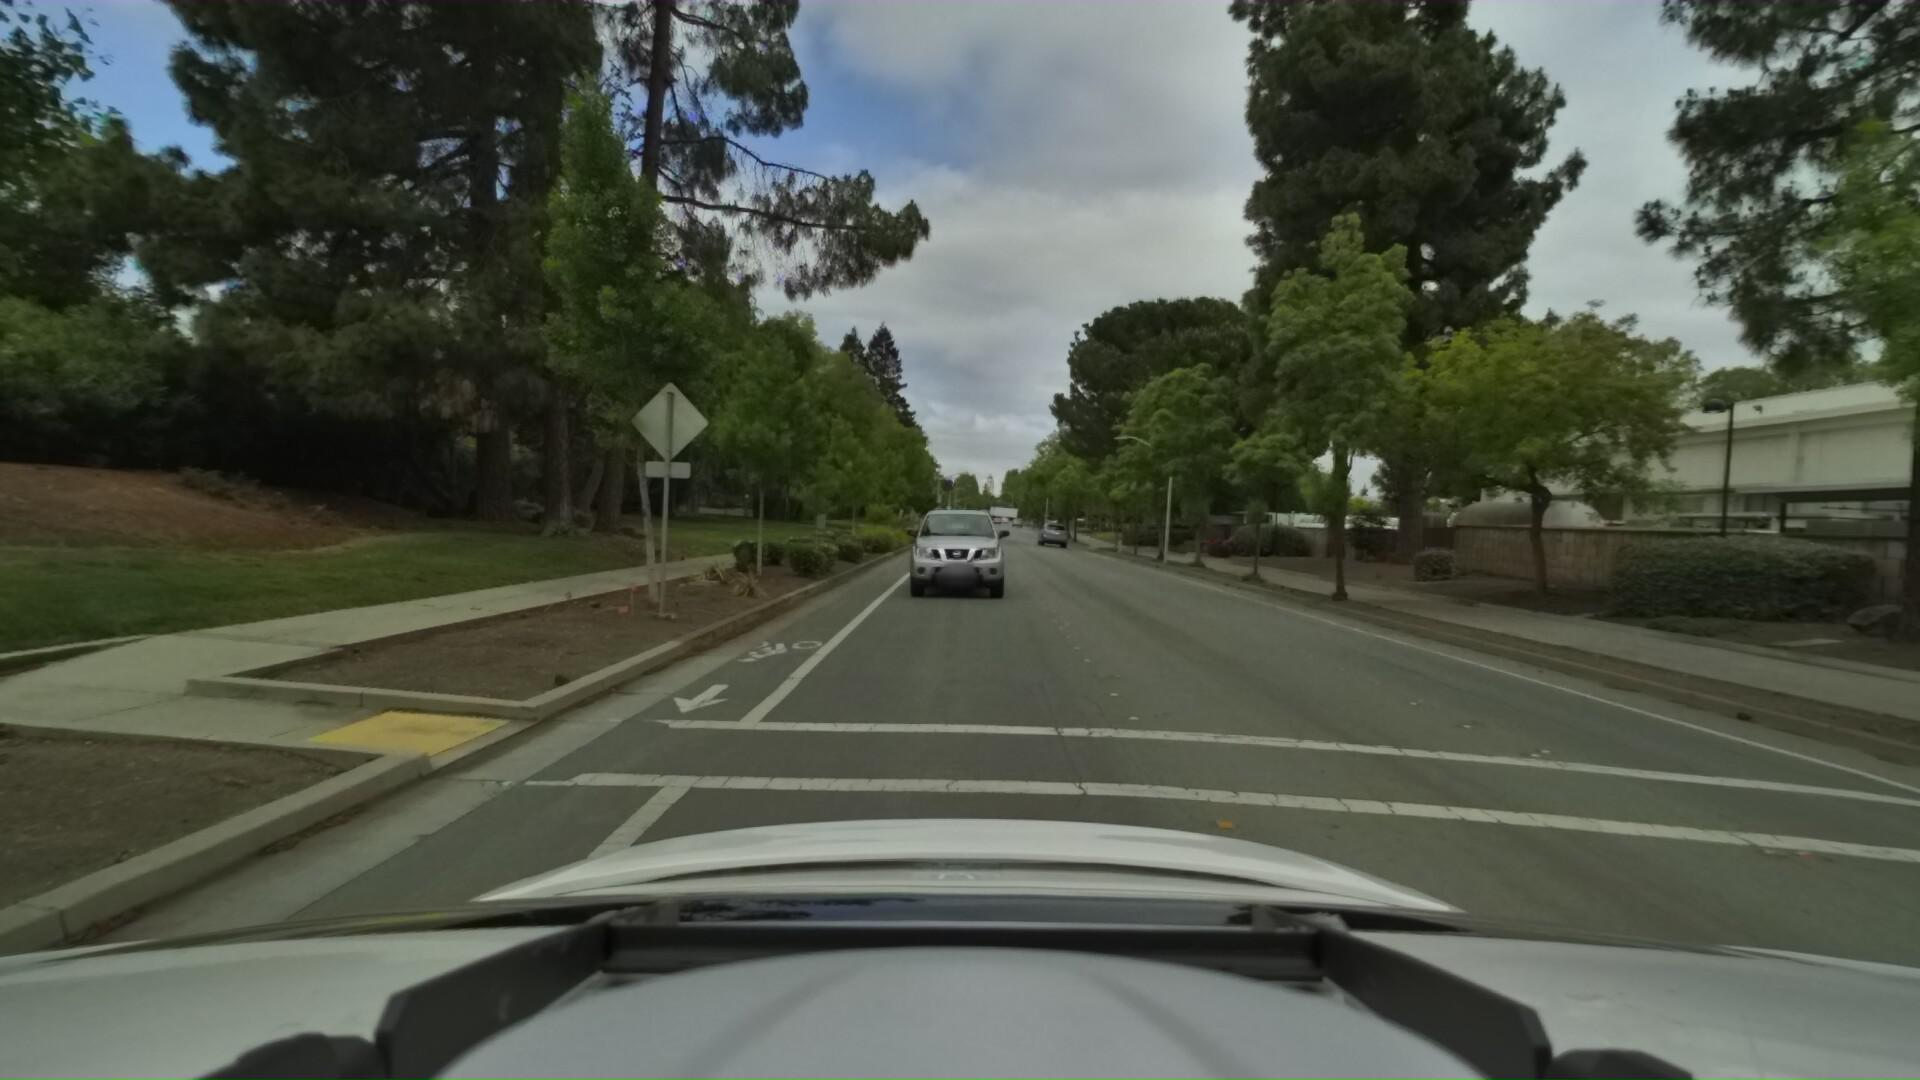car: (897, 491, 1013, 604), (928, 500, 993, 559), (1035, 516, 1071, 546)
